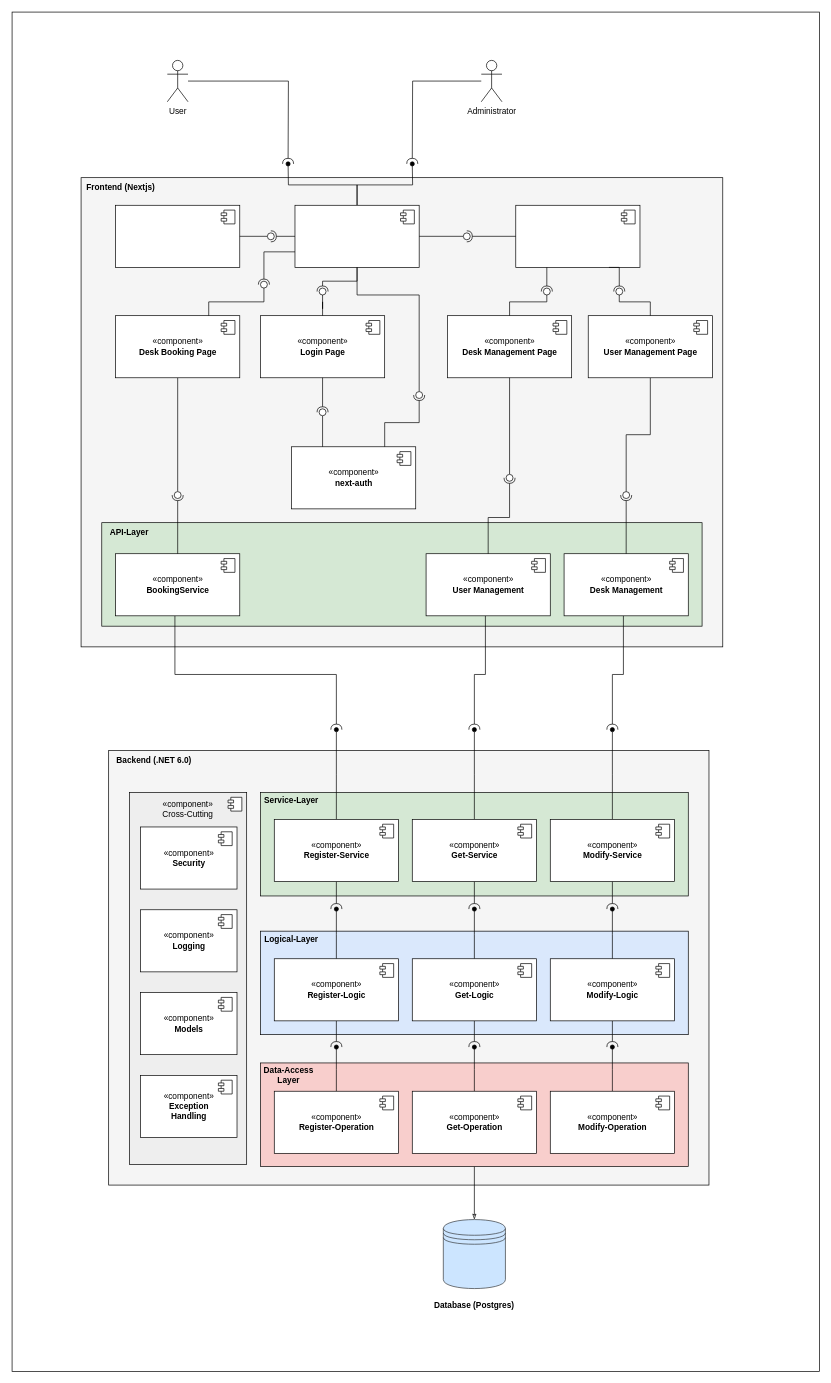
Image size: 831x1383. Some labels were removed from this diagram. The shapes that lost their labels are listed below. From the top down, each one's centre as x and y in pixels, then its label:
At point (177, 236): "«component» Overview Page".
At point (356, 236): "«component» Router".
At point (577, 236): "«component» Admin Panel".
